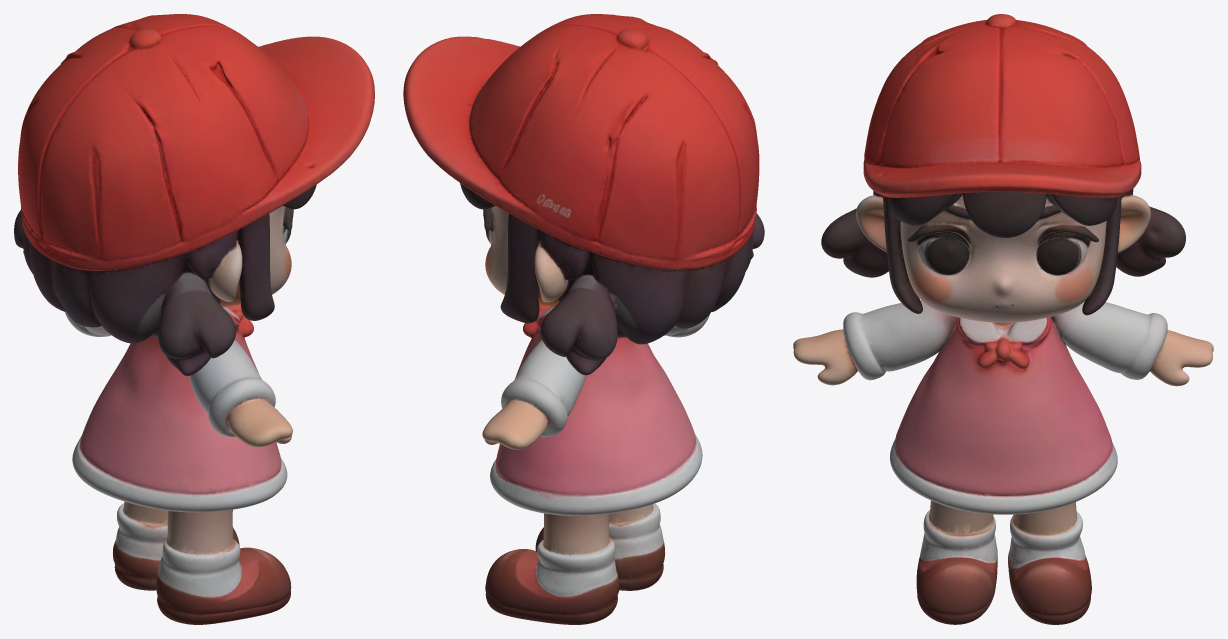
File: character-girl-cap.glb
3 renders of one model, left to right at view 1: azimuth 30°, elevation 25°; view 2: azimuth 150°, elevation 25°; view 3: azimuth 270°, elevation 25°, orthographic. The views are drawn at different scales.
Parts seen in each view (by area): view 1: tripo_node_50aabcff-8297-4d1f-b246-751cb69e82b4; view 2: tripo_node_50aabcff-8297-4d1f-b246-751cb69e82b4; view 3: tripo_node_50aabcff-8297-4d1f-b246-751cb69e82b4.
Part boxes in pixels (x1=…): tripo_node_50aabcff-8297-4d1f-b246-751cb69e82b4: x1=14, y1=14, x2=374, y2=624; tripo_node_50aabcff-8297-4d1f-b246-751cb69e82b4: x1=403, y1=14, x2=764, y2=624; tripo_node_50aabcff-8297-4d1f-b246-751cb69e82b4: x1=793, y1=14, x2=1213, y2=624.
Size of the model in its own units: 0.5774 by 1 by 0.6821.
1 material, 1 textured.
